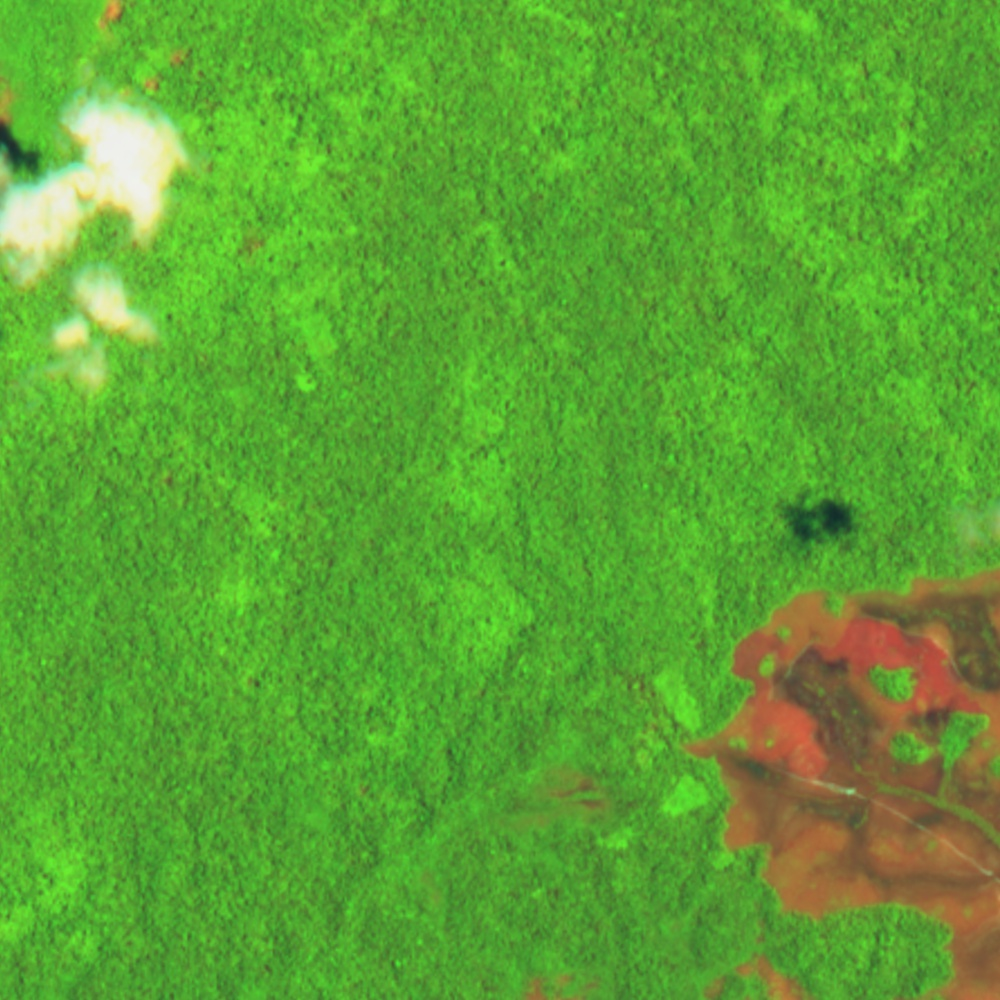legal: (676, 563, 1000, 1000), (511, 755, 635, 850), (95, 2, 197, 97), (509, 963, 609, 1000), (1, 75, 21, 203)
